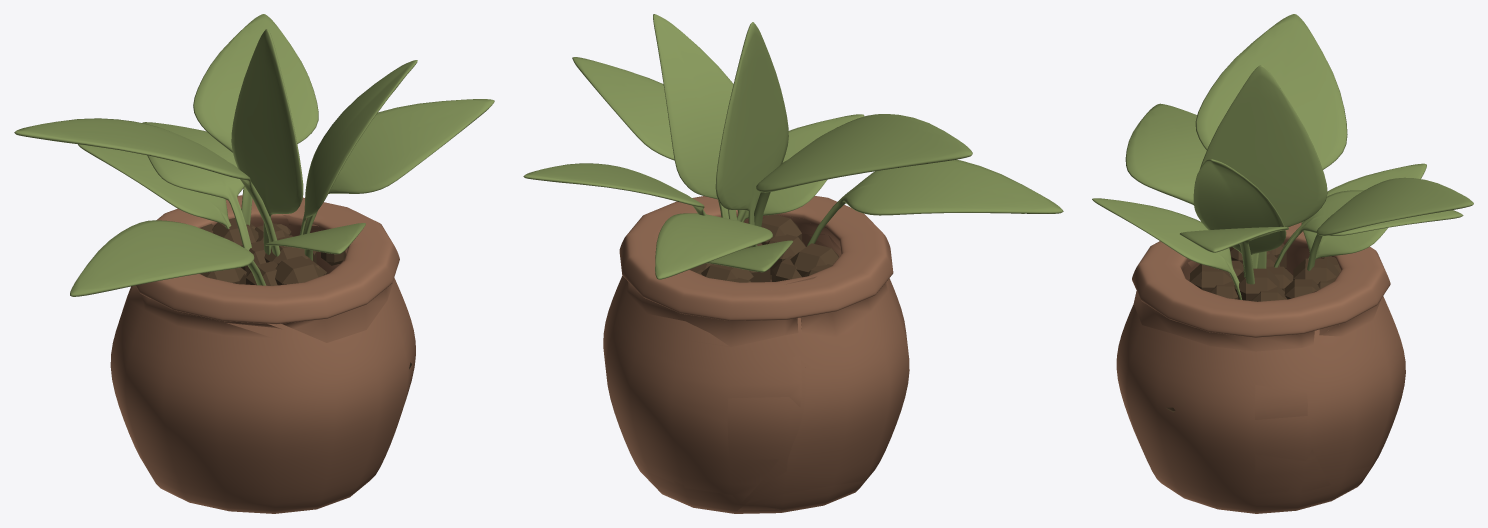
Rendered from Plant 05.fbx.
3 views of the same model, side by side, from view 1: azimuth 30°, elevation 25°; view 2: azimuth 150°, elevation 25°; view 3: azimuth 270°, elevation 25° (orthographic). The views are drawn at different scales.
Parts seen in each view (by area): view 1: Plant_pot.005, Plant.005, Leaves_3.001, Leaves_3.002, Leaves_3.008, Plant_pot.007_cell.004, Leaves_3.003, Leaves_3.004, Leaves_3.006, Leaves_3.007, Plant_pot.007_cell.002, Leaves_3.009 (+4 smaller); view 2: Plant_pot.005, Plant_pot.007_cell.003, Plant_pot.007_cell.004, Plant.005, Leaves_3.002, Leaves_3.004, Leaves_3.001, Leaves_3.007, Leaves_3.003, Leaves_3.009, Leaves_3.008, Soil_clump.083 (+3 smaller); view 3: Plant_pot.005, Leaves_3.001, Leaves_3.004, Plant_pot.007_cell.003, Leaves_3.002, Plant.005, Leaves_3.008, Plant_pot.007_cell.002, Leaves_3.009, Leaves_3.006, Plant_pot.007_cell.004, Leaves_3.007 (+7 smaller).
Boxes of the visible parts, x1,y1,x2,y2 form: Plant_pot.005: (120,195,415,513); Plant.005: (15,22,490,256); Leaves_3.001: (231,29,303,254); Leaves_3.002: (70,220,266,296); Leaves_3.008: (196,14,318,225); Plant_pot.007_cell.004: (110,285,283,482); Leaves_3.003: (307,99,494,233); Leaves_3.004: (14,118,249,177); Leaves_3.006: (80,144,231,228); Leaves_3.007: (142,122,251,250); Plant_pot.007_cell.002: (281,214,394,342); Leaves_3.009: (301,60,417,234); Plant_pot.005: (603,196,909,513); Plant_pot.007_cell.003: (606,282,801,503); Plant_pot.007_cell.004: (738,254,909,510); Plant.005: (524,14,972,279); Leaves_3.002: (807,159,1063,245); Leaves_3.004: (754,114,972,225); Leaves_3.001: (715,22,788,247); Leaves_3.007: (655,213,771,278); Leaves_3.003: (572,57,721,215); Leaves_3.009: (653,14,737,220); Leaves_3.008: (523,163,703,205); Soil_clump.083: (772,243,838,281); Plant_pot.005: (1116,222,1397,513); Leaves_3.001: (1200,65,1327,268); Leaves_3.004: (1197,14,1347,268); Plant_pot.007_cell.003: (1319,284,1405,491); Leaves_3.002: (1125,103,1206,205); Plant.005: (1093,19,1473,290); Leaves_3.008: (1307,178,1473,270); Plant_pot.007_cell.002: (1133,261,1317,419); Leaves_3.009: (1193,159,1284,277); Leaves_3.006: (1301,163,1426,259); Plant_pot.007_cell.004: (1186,264,1330,494); Leaves_3.007: (1274,190,1463,267).
Size of the model in its own units: 20.99 by 19.46 by 16.46.
